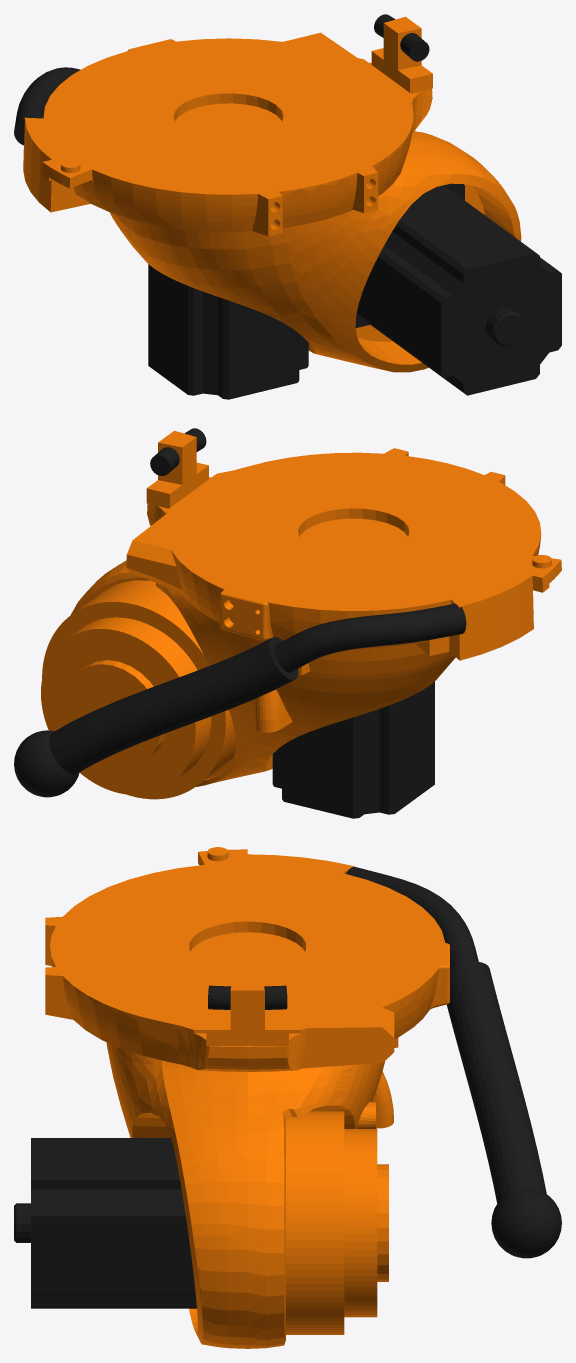
The picture shows the model from 3 angles, top to bottom: view 1: azimuth 30°, elevation 25°; view 2: azimuth 150°, elevation 25°; view 3: azimuth 270°, elevation 25°; orthographic projection. The views are drawn at different scales.
Visible parts, largest first — view 1: node6, node3, node4, node5, node0; view 2: node6, node4, node2, node5, node1, node0; view 3: node6, node3, node2, node1, node5, node0.
Part boxes in pixels (x1,y1,x2,y2): node6: (23,16,521,372); node3: (355,183,561,395); node4: (148,264,308,399); node5: (14,67,80,145); node0: (374,14,429,61); node6: (41,430,561,799); node4: (272,681,434,818); node2: (49,637,298,774); node5: (274,604,466,672); node1: (14,730,79,797); node0: (150,428,206,475); node6: (45,847,449,1348); node3: (14,1138,196,1308); node2: (447,961,546,1203); node1: (491,1189,561,1258); node5: (346,866,478,967); node0: (208,985,287,1009).
Size of the model in its own units: 0.4827 by 0.4655 by 0.3325.
